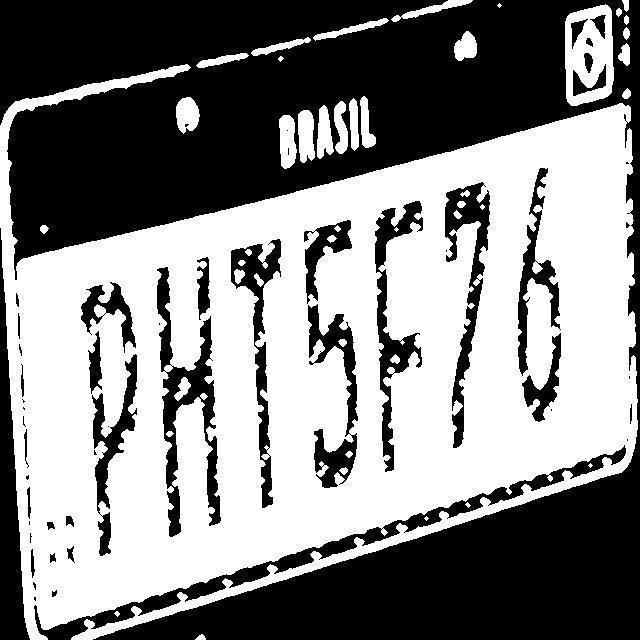5: (289, 219, 362, 499)
6: (507, 158, 570, 428)
7: (433, 178, 496, 462)
f: (365, 191, 428, 479)
h: (144, 250, 226, 546)
p: (73, 272, 148, 568)
t: (224, 236, 292, 516)
